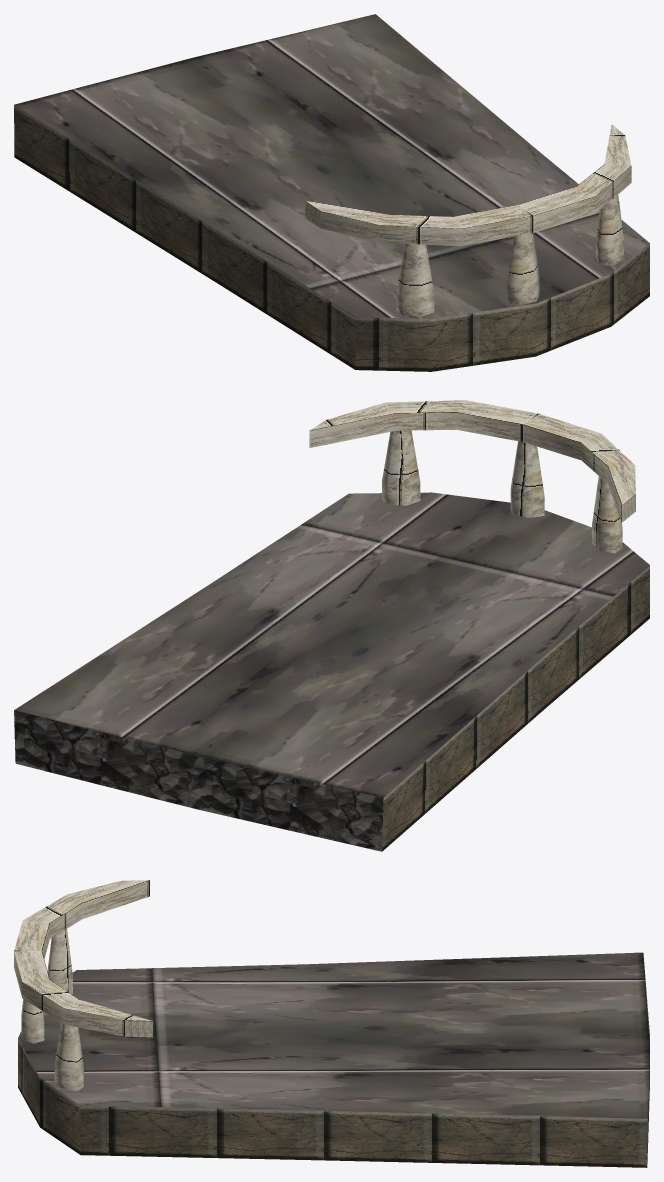
The model's file is INST_SM_WALKWAYC.fbx.
3 renders of one model, top to bottom at view 1: azimuth 30°, elevation 25°; view 2: azimuth 150°, elevation 25°; view 3: azimuth 270°, elevation 25°, orthographic. The views are drawn at different scales.
Parts seen in each view (by area): view 1: INST_SM_WALKWAYC; view 2: INST_SM_WALKWAYC; view 3: INST_SM_WALKWAYC.
Part boxes in pixels (x1,y1,x2,y2): INST_SM_WALKWAYC: (14,14,649,371); INST_SM_WALKWAYC: (14,400,649,851); INST_SM_WALKWAYC: (14,880,649,1167).
Bounding box in the file's own units: 43863 × 16601 × 70917.
4 materials, 4 textured.
